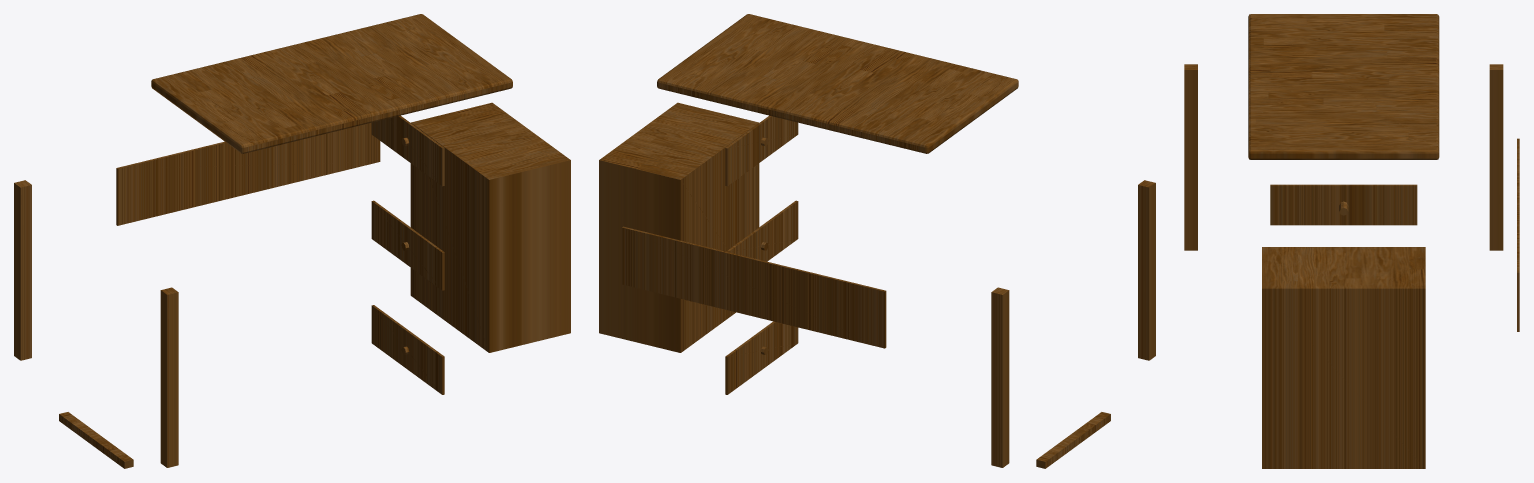
The model's file is work_desk.fbx.
3 views of the same model, side by side, from view 1: azimuth 30°, elevation 25°; view 2: azimuth 150°, elevation 25°; view 3: azimuth 270°, elevation 25° (orthographic). The views are drawn at different scales.
Visible parts, largest first — view 1: work_desk; view 2: work_desk; view 3: work_desk.
Part boxes in pixels (x1,y1,x2,y2): work_desk: [14, 14, 570, 468]; work_desk: [599, 14, 1155, 468]; work_desk: [1184, 14, 1519, 468].
Bounding box in the file's own units: 0.9725 × 0.65 × 0.615.
Materials: 1 (1 with a texture image).
